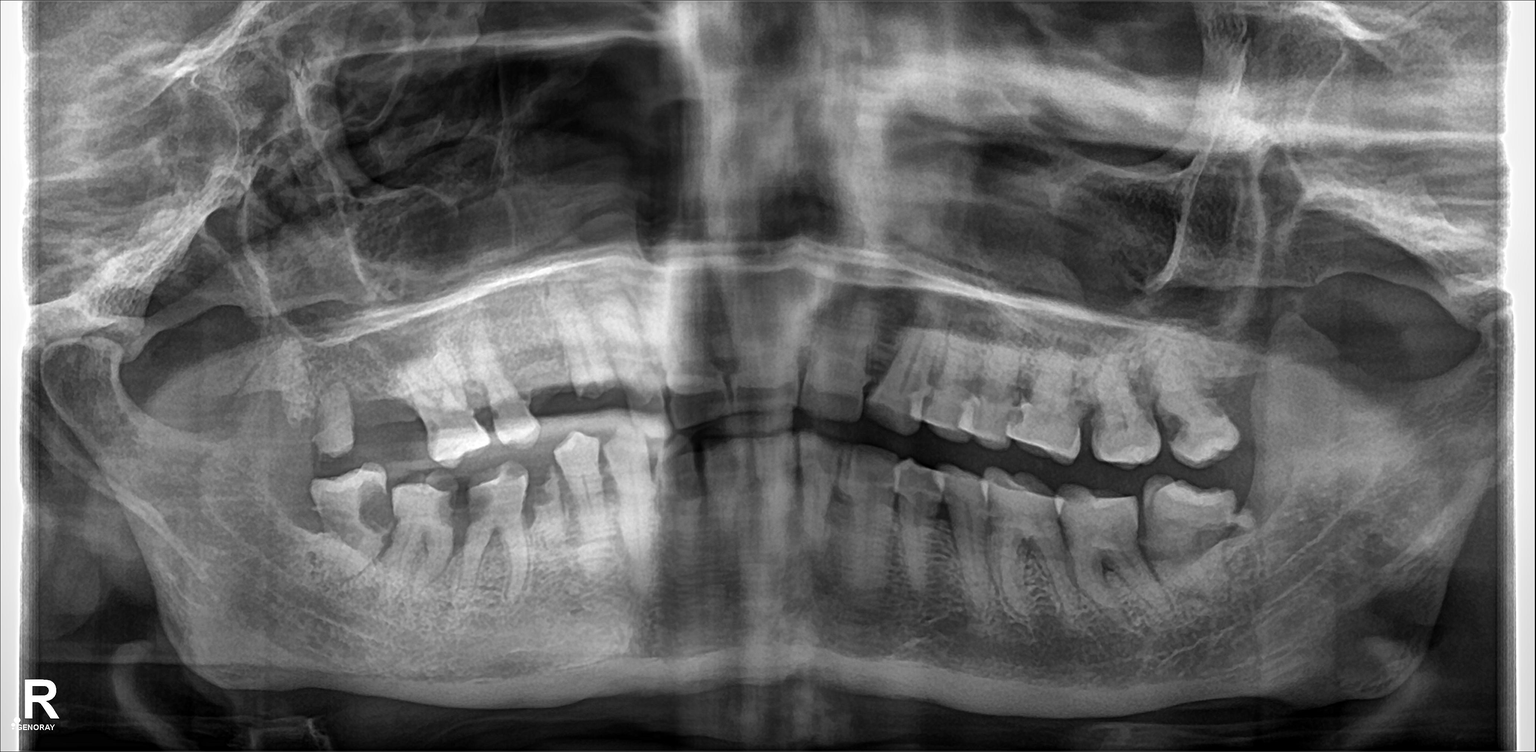Dental Caries: (432, 485, 498, 535), (354, 486, 399, 530), (1153, 396, 1186, 450), (525, 478, 550, 529)
Impacted Third Molar: (313, 473, 395, 554)
Missing Tooth: (529, 322, 571, 434), (358, 372, 414, 450)
Retained Root: (272, 365, 353, 454)
